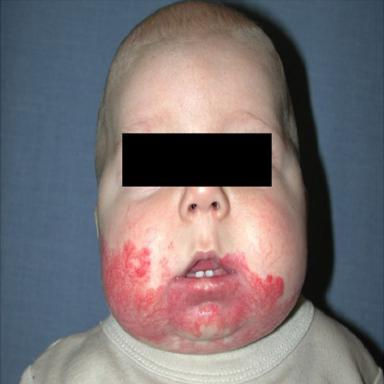Hemangiome: (103, 243, 299, 353)
